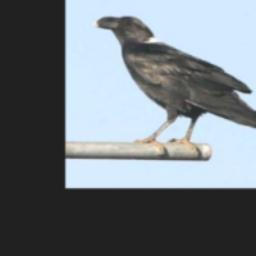Crow: (94, 13, 256, 158)
